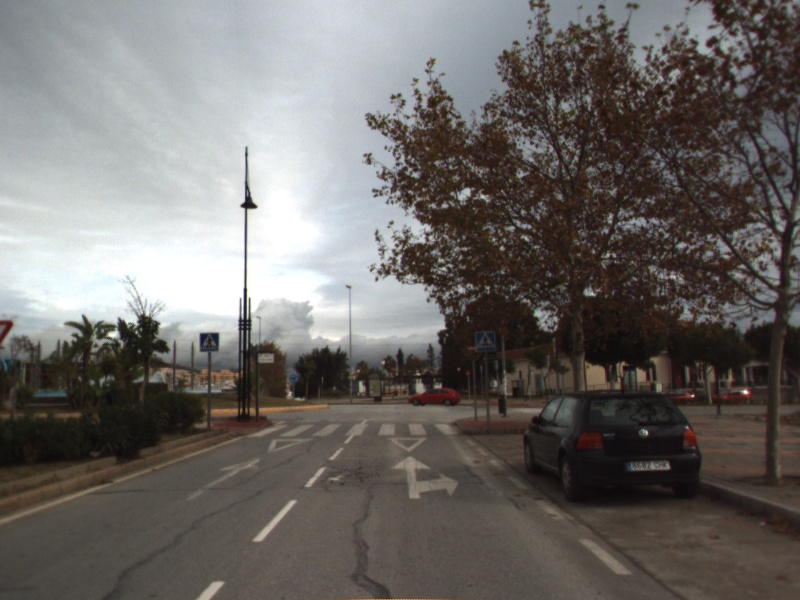STRAIGHT: (184, 454, 262, 502)
STRAIGHT_RIGHT: (389, 453, 461, 501)
